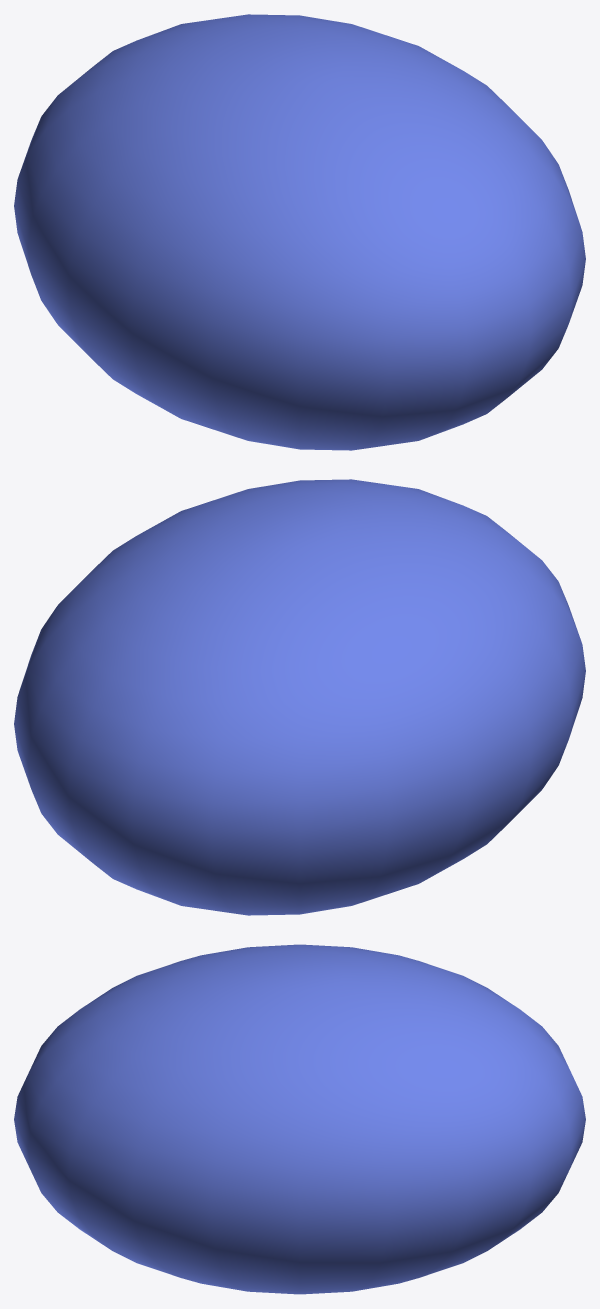
The model's file is bubble.fbx.
The picture shows the model from 3 angles, top to bottom: view 1: azimuth 30°, elevation 25°; view 2: azimuth 150°, elevation 25°; view 3: azimuth 270°, elevation 25°; orthographic projection. The views are drawn at different scales.
Parts seen in each view (by area): view 1: pSphere2; view 2: pSphere2; view 3: pSphere2.
Part boxes in pixels (left/top/right/bottom): pSphere2: left=14, top=14, right=585, bottom=450; pSphere2: left=14, top=479, right=585, bottom=915; pSphere2: left=14, top=944, right=585, bottom=1294.
Bounding box in the file's own units: 34.24 × 24.3 × 43.02.
